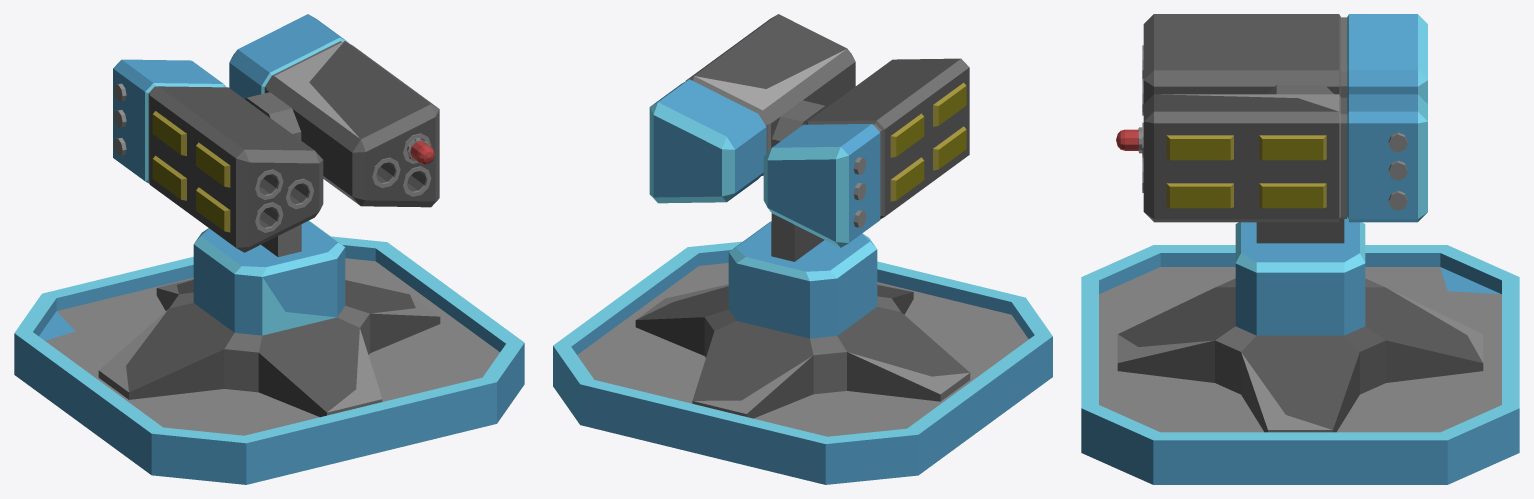
Rendered from tower_rocket_blue_1.fbx.
The picture shows the model from 3 angles, left to right: view 1: azimuth 30°, elevation 25°; view 2: azimuth 150°, elevation 25°; view 3: azimuth 270°, elevation 25°; orthographic projection. The views are drawn at different scales.
Visible parts, largest first — view 1: top_rocket_blue_1, tower_rocket_blue_1, rocket_blue_1; view 2: top_rocket_blue_1, tower_rocket_blue_1; view 3: top_rocket_blue_1, tower_rocket_blue_1, rocket_blue_1.
Part boxes in pixels (x1,y1,x2,y2): top_rocket_blue_1: (98,14,440,417); tower_rocket_blue_1: (14,236,524,484); rocket_blue_1: (406,137,434,164); top_rocket_blue_1: (635,14,970,418); tower_rocket_blue_1: (553,241,1052,484); top_rocket_blue_1: (1117,14,1483,432); tower_rocket_blue_1: (1081,245,1519,484); rocket_blue_1: (1116,127,1142,153).
Size of the model in its own units: 158 by 123 by 150.
